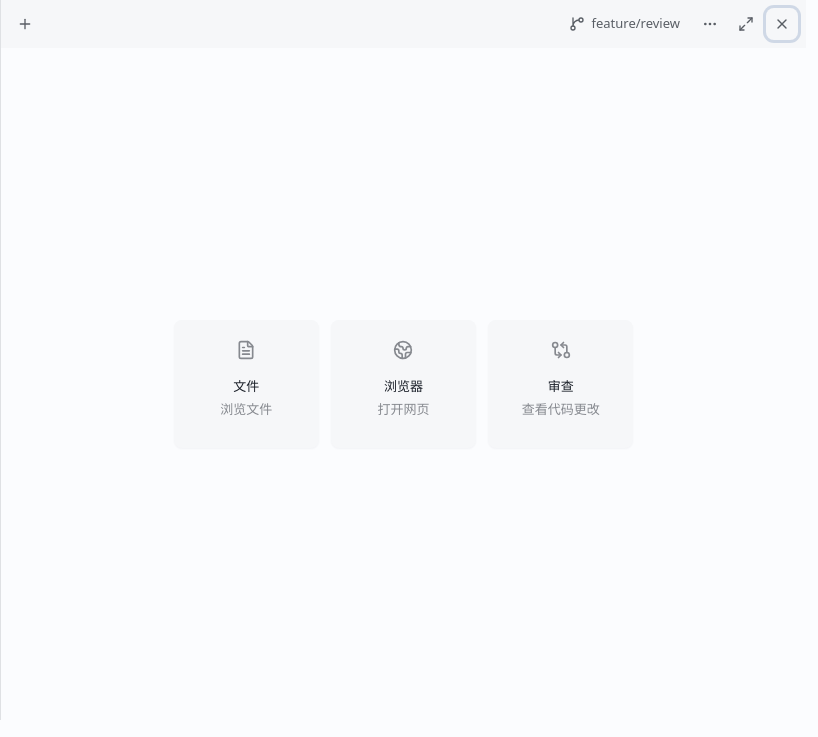
Scenario: ReviewWorkspacePanel › shows an empty project file tree state inside file tabs
The width and height of the screenshot is (818, 737).
Click the button "文件 浏览文件". click: point(246, 384)
box: [174,320,319,448]
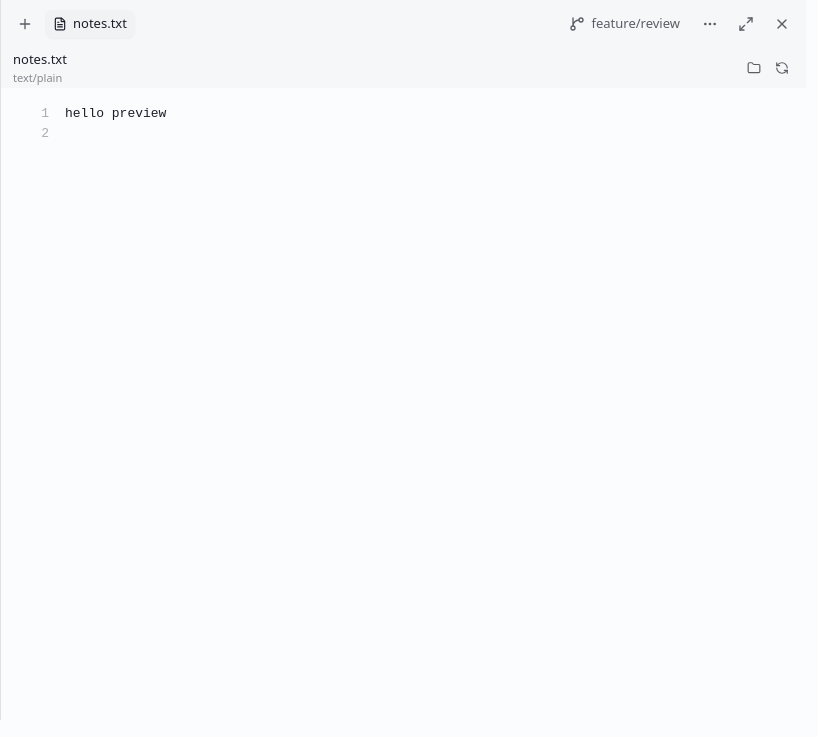
Expected: the tab "notes.txt" is shown, [45,10,135,38]
Click the button named "显示项目文件树". click: point(754, 68)
box: [742,56,766,80]
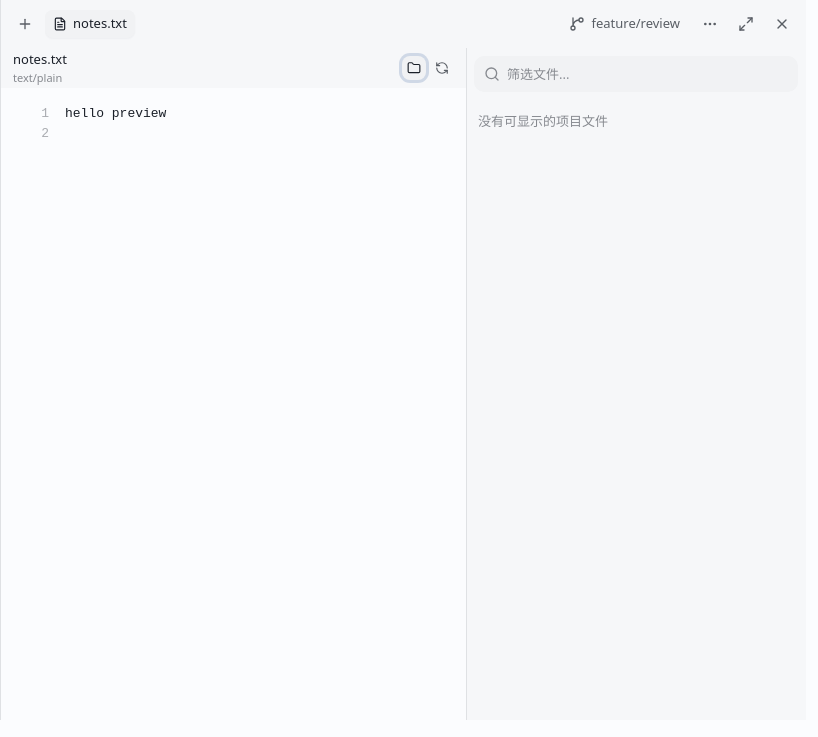
Expected: the text "没有可显示的项目文件" is shown, [478,112,608,130]
